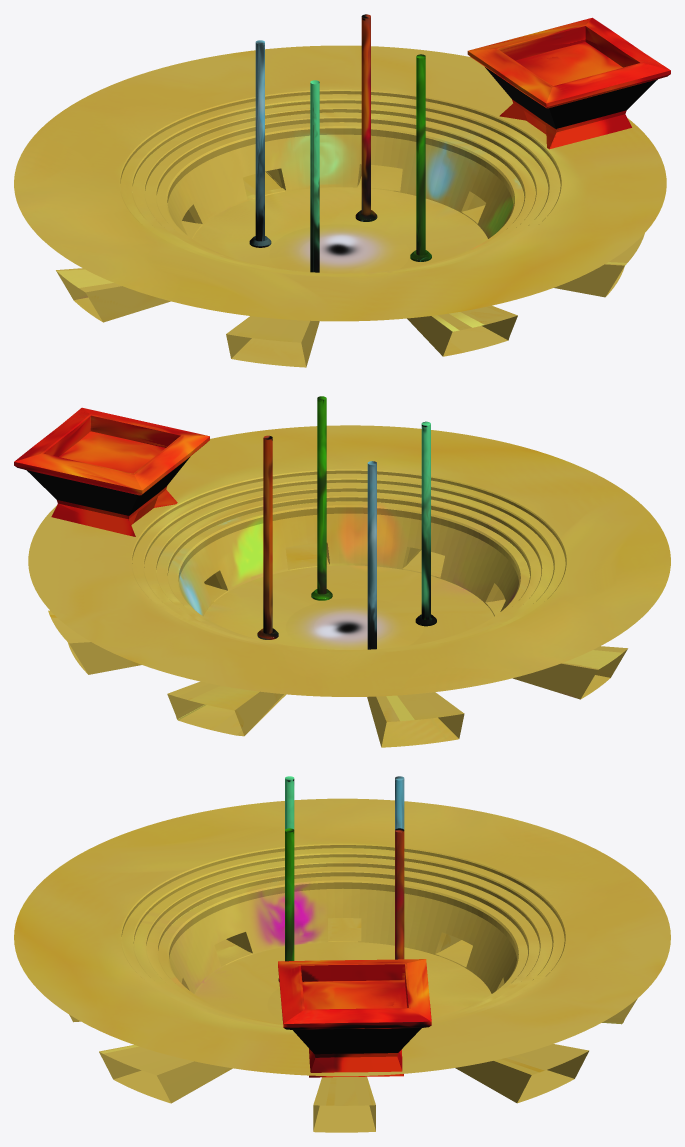
File: Arena.fbx
3 renders of one model, top to bottom at view 1: azimuth 30°, elevation 25°; view 2: azimuth 150°, elevation 25°; view 3: azimuth 270°, elevation 25°, orthographic. The views are drawn at different scales.
Visible parts, largest first — view 1: Cylinder, Cube, Cylinder.001; view 2: Cylinder, Cube, Cylinder.001; view 3: Cylinder, Cube, Cylinder.001.
Part boxes in pixels (x1,y1,x2,y2): Cylinder: (14,45,666,367); Cube: (467,17,670,149); Cylinder.001: (249,14,431,272); Cylinder: (28,425,670,747); Cube: (14,407,209,536); Cylinder.001: (257,396,436,649); Cylinder: (14,798,670,1132); Cube: (278,959,431,1077); Cylinder.001: (278,776,404,981).
Bounding box in the file's own units: 20209 × 6908 × 19565.
